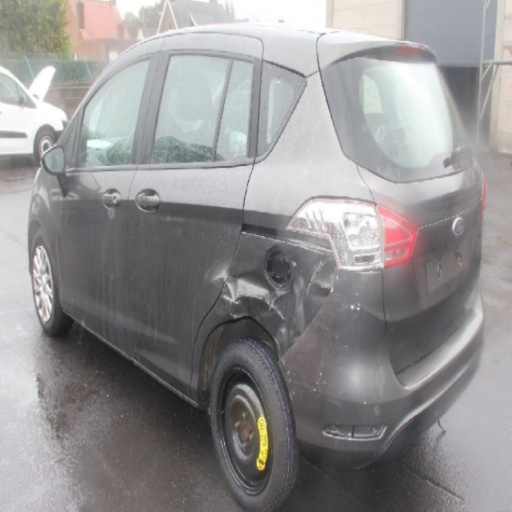dent: (199, 244, 335, 354)
scratch: (221, 258, 331, 360), (289, 393, 293, 402), (289, 393, 292, 400), (292, 391, 295, 397), (287, 370, 290, 376), (282, 359, 285, 364), (289, 377, 291, 383)
